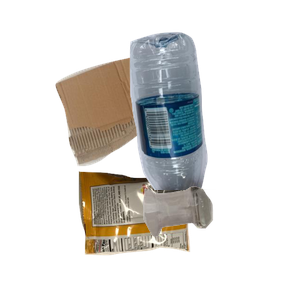cardboard: (53, 45, 221, 204)
glass: (141, 184, 300, 300)
plastic: (127, 29, 300, 209)
trash: (76, 159, 259, 300)
